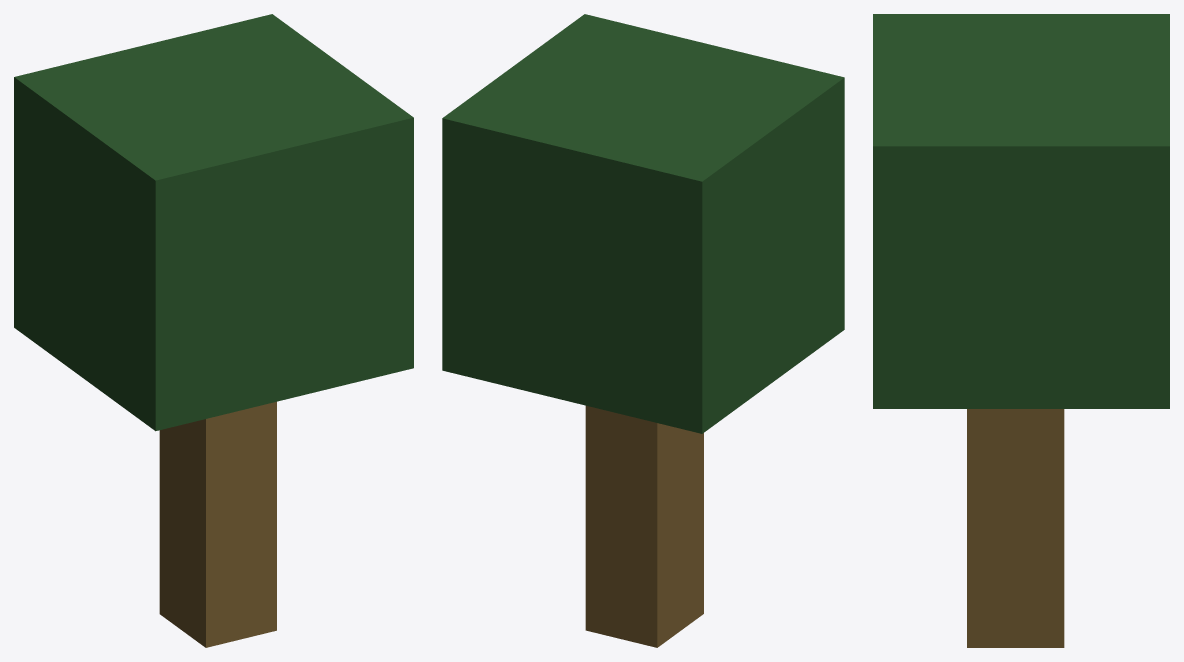
The model's file is tree8.FBX.
The picture shows the model from 3 angles, left to right: view 1: azimuth 30°, elevation 25°; view 2: azimuth 150°, elevation 25°; view 3: azimuth 270°, elevation 25°; orthographic projection. The views are drawn at different scales.
Visible parts, largest first — view 1: tree8; view 2: tree8; view 3: tree8.
Part boxes in pixels (x1,y1,x2,y2): tree8: (14,14,413,647); tree8: (442,14,844,647); tree8: (873,14,1169,647).
Size of the model in its own units: 3.56 by 6.88 by 3.37.
